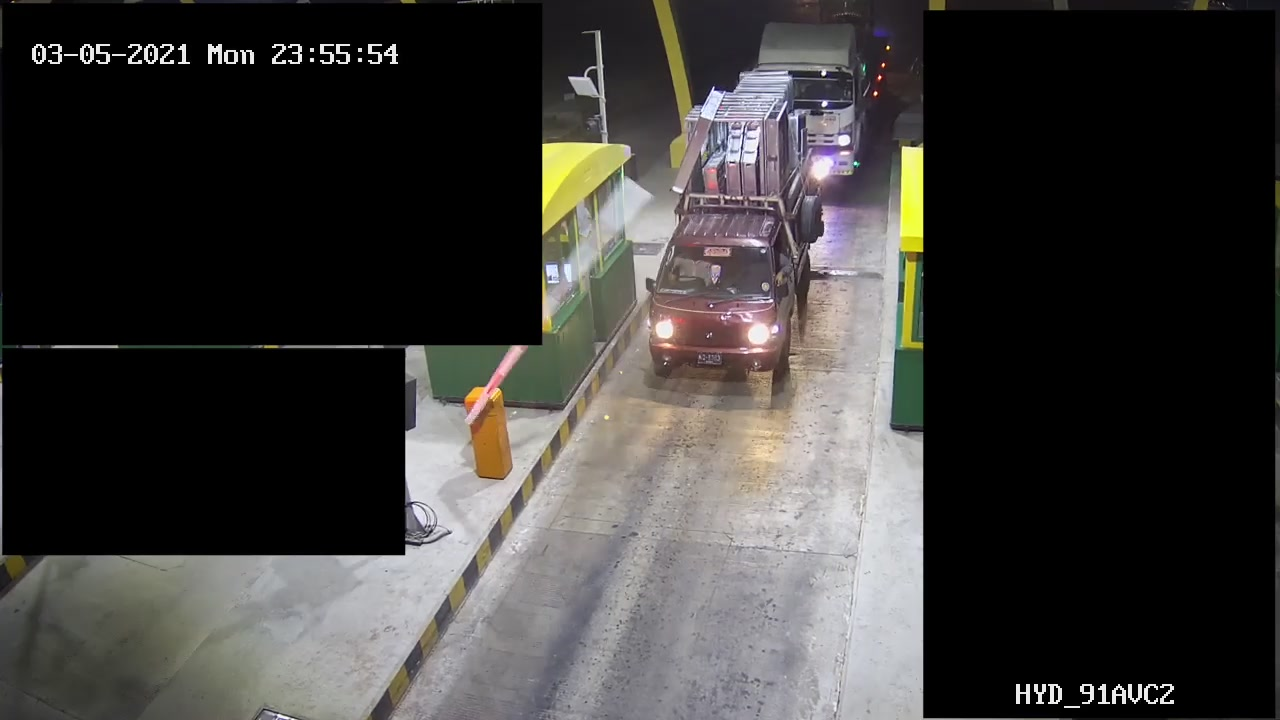F2: (643, 72, 812, 383)
